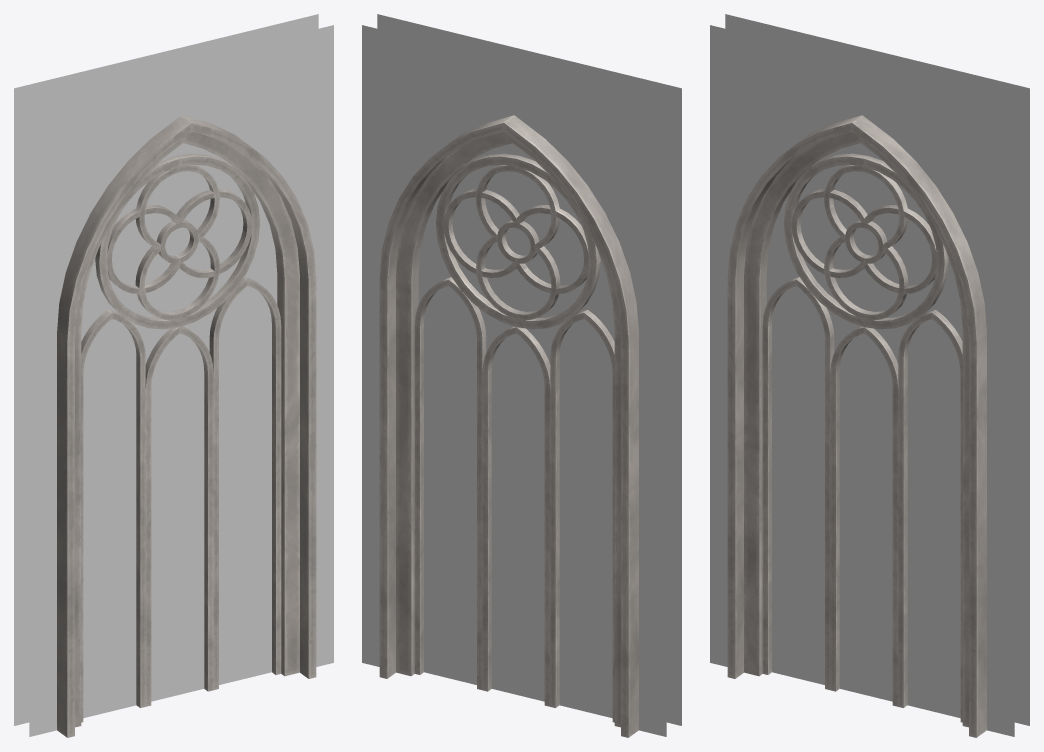
The model's file is Wall_Window_D_C.fbx.
3 renders of one model, left to right at view 1: azimuth 30°, elevation 25°; view 2: azimuth 150°, elevation 25°; view 3: azimuth 330°, elevation 25°, orthographic.
Parts seen in each view (by area): view 1: Wall_Window_D_C; view 2: Wall_Window_D_C; view 3: Wall_Window_D_C.
Part boxes in pixels (left/top/right/bottom): Wall_Window_D_C: left=14, top=14, right=333, bottom=737; Wall_Window_D_C: left=362, top=14, right=681, bottom=737; Wall_Window_D_C: left=710, top=14, right=1029, bottom=737.
Size of the model in its own units: 3 by 0.6115 by 6.
